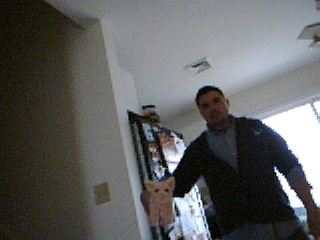piggy: (141, 175, 178, 228)
